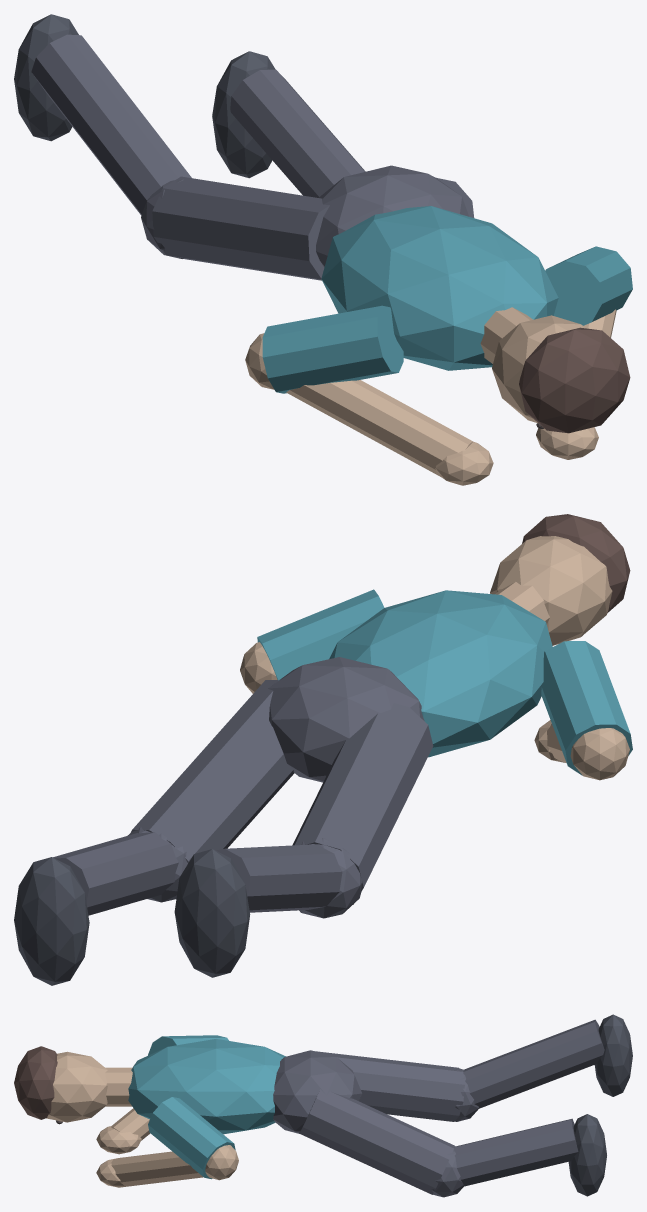
3 views of the same model, one above another, from view 1: azimuth 30°, elevation 25°; view 2: azimuth 150°, elevation 25°; view 3: azimuth 270°, elevation 25° (orthographic). The views are drawn at different scales.
Visible parts, largest first — view 1: world; view 2: world; view 3: world.
Part boxes in pixels (x1,y1,x2,y2): world: (14, 14, 632, 485); world: (14, 514, 632, 985); world: (14, 1014, 632, 1197).
Bounding box in the file's own units: 0.93 × 0.4638 × 2.04.
